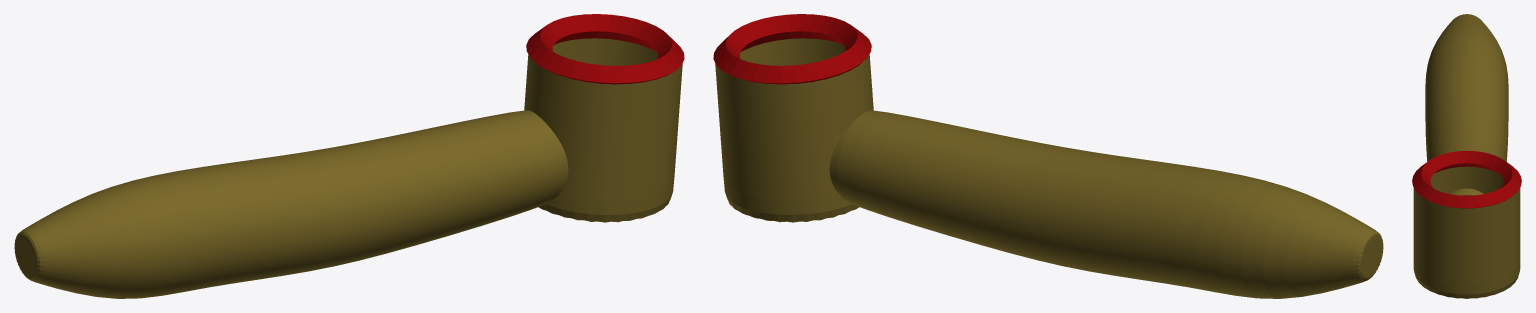
Rendered from cachimbo.fbx.
The picture shows the model from 3 angles, left to right: view 1: azimuth 30°, elevation 25°; view 2: azimuth 150°, elevation 25°; view 3: azimuth 270°, elevation 25°; orthographic projection. The views are drawn at different scales.
Visible parts, largest first — view 1: Cilindro, Cilindro.001, Cilindro.002; view 2: Cilindro, Cilindro.001, Cilindro.002; view 3: Cilindro.001, Cilindro, Cilindro.002.
Part boxes in pixels (bbox=[...]): Cilindro: bbox=[14, 110, 568, 298]; Cilindro.001: bbox=[524, 38, 682, 222]; Cilindro.002: bbox=[526, 14, 684, 84]; Cilindro: bbox=[829, 110, 1383, 298]; Cilindro.001: bbox=[715, 38, 873, 222]; Cilindro.002: bbox=[713, 14, 871, 84]; Cilindro.001: bbox=[1413, 166, 1520, 298]; Cilindro: bbox=[1425, 14, 1508, 195]; Cilindro.002: bbox=[1412, 150, 1521, 208].
Bounding box in the file's own units: 196 × 46.81 × 41.63.
